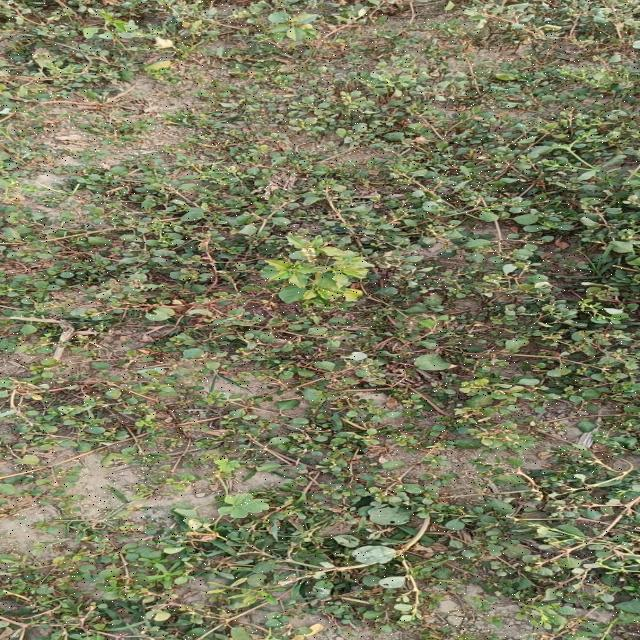plant: (262, 235, 376, 303)
